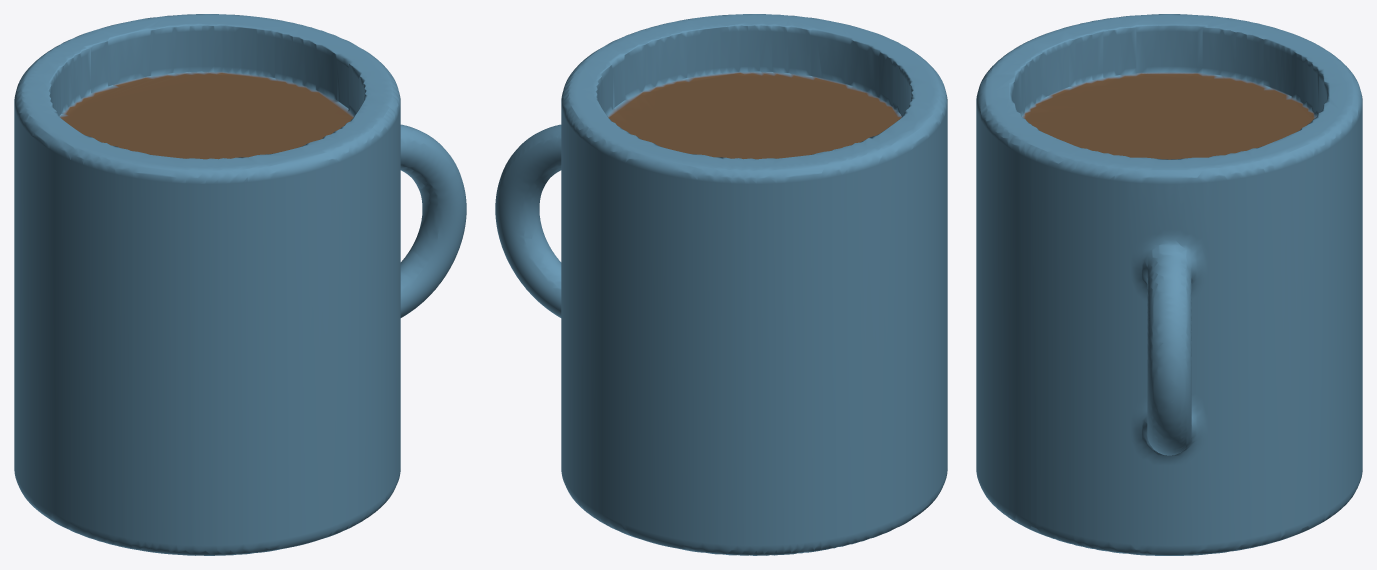
File: mug.glb
The picture shows the model from 3 angles, left to right: view 1: azimuth 30°, elevation 25°; view 2: azimuth 150°, elevation 25°; view 3: azimuth 270°, elevation 25°; orthographic projection.
Parts seen in each view (by area): view 1: mug; view 2: mug; view 3: mug.
Boxes of the visible parts, box(x1,y1,x2,y2) form: mug: box(14, 14, 466, 555); mug: box(495, 14, 947, 555); mug: box(976, 14, 1362, 555).
Size of the model in its own units: 0.0607 by 0.053 by 0.048.
